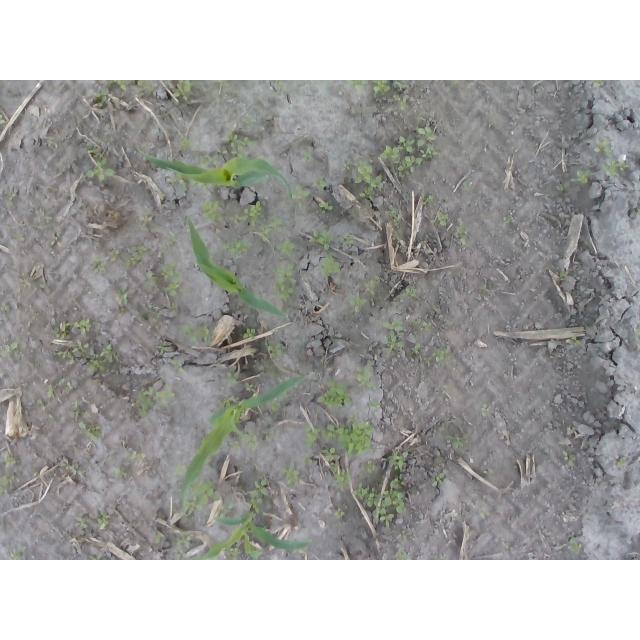Maize: (181, 375, 309, 506), (183, 213, 287, 319), (135, 144, 293, 197), (189, 508, 312, 561)
Weeds: (352, 476, 407, 529), (381, 136, 440, 177), (326, 412, 375, 457), (132, 384, 175, 419), (184, 480, 221, 516), (353, 160, 384, 200), (317, 380, 352, 409), (273, 263, 296, 303), (380, 317, 404, 351), (224, 131, 254, 158), (247, 479, 269, 513), (89, 344, 114, 373), (86, 157, 114, 181), (331, 462, 354, 490), (258, 217, 283, 241), (224, 237, 253, 257), (242, 201, 264, 227), (437, 428, 463, 449), (182, 323, 210, 342), (316, 253, 340, 275), (310, 230, 335, 251), (355, 364, 375, 390), (126, 246, 149, 268), (200, 149, 227, 167), (603, 159, 630, 177), (290, 185, 310, 208), (174, 80, 195, 101), (388, 450, 409, 471), (202, 200, 223, 221), (164, 276, 186, 296), (50, 317, 70, 339), (305, 426, 324, 449), (60, 459, 84, 477), (78, 421, 102, 439), (160, 262, 185, 279), (282, 462, 301, 484), (242, 431, 260, 454), (416, 126, 436, 146), (169, 172, 188, 193), (34, 209, 53, 229), (71, 339, 89, 360), (275, 239, 294, 258), (593, 137, 613, 155), (350, 292, 367, 313), (0, 473, 16, 495), (432, 347, 452, 364), (373, 80, 391, 98), (93, 88, 109, 108), (97, 510, 111, 531), (143, 270, 161, 286), (138, 312, 162, 324), (429, 210, 447, 226), (188, 178, 208, 192), (218, 502, 235, 518), (384, 209, 400, 226), (365, 276, 380, 294), (3, 187, 18, 205), (571, 169, 590, 183), (347, 80, 369, 92), (456, 225, 469, 245), (562, 451, 577, 468), (322, 447, 339, 462), (162, 237, 177, 254), (55, 350, 74, 363), (393, 94, 408, 110), (3, 451, 18, 467), (59, 378, 74, 394), (91, 258, 105, 275), (361, 460, 378, 474), (74, 319, 91, 333), (179, 137, 194, 152), (177, 533, 192, 548), (1, 341, 17, 355), (568, 537, 581, 554), (395, 548, 412, 561), (69, 402, 82, 419), (264, 428, 281, 441), (136, 80, 154, 92), (12, 545, 26, 560), (267, 343, 282, 357), (412, 320, 431, 331), (226, 548, 242, 561), (168, 360, 184, 373), (218, 396, 234, 409), (312, 176, 329, 188), (461, 181, 475, 195), (318, 202, 334, 214), (433, 473, 446, 487), (109, 80, 127, 90), (403, 286, 418, 298), (139, 215, 154, 227), (396, 531, 412, 542), (117, 288, 128, 304), (226, 372, 239, 385), (268, 399, 281, 412), (107, 248, 119, 262), (157, 341, 169, 355), (302, 453, 314, 467), (113, 467, 128, 478), (342, 233, 354, 246), (173, 549, 187, 560), (242, 328, 256, 339), (275, 81, 285, 96), (334, 506, 346, 518), (155, 532, 166, 545), (302, 147, 312, 161), (173, 465, 187, 475), (246, 116, 257, 128), (40, 283, 52, 294), (76, 517, 88, 528), (423, 195, 435, 206), (410, 343, 420, 356), (50, 234, 60, 247), (565, 336, 581, 344), (555, 183, 570, 191), (131, 452, 146, 460), (37, 398, 47, 410), (229, 214, 244, 222), (481, 404, 490, 417), (245, 382, 256, 392), (229, 441, 240, 451), (501, 217, 511, 228), (12, 233, 24, 242), (342, 160, 351, 172), (480, 507, 490, 517), (215, 81, 229, 88), (395, 81, 409, 88), (588, 81, 602, 88), (89, 553, 103, 560), (367, 401, 380, 408), (47, 388, 55, 399), (87, 146, 97, 154), (617, 458, 627, 466), (295, 547, 306, 554), (97, 137, 109, 143), (283, 390, 292, 398), (434, 556, 447, 561), (480, 284, 488, 292), (170, 303, 179, 310), (560, 272, 566, 281), (571, 273, 578, 280), (48, 140, 56, 146), (635, 327, 640, 336), (453, 80, 460, 86), (0, 114, 4, 124), (323, 81, 332, 84)
